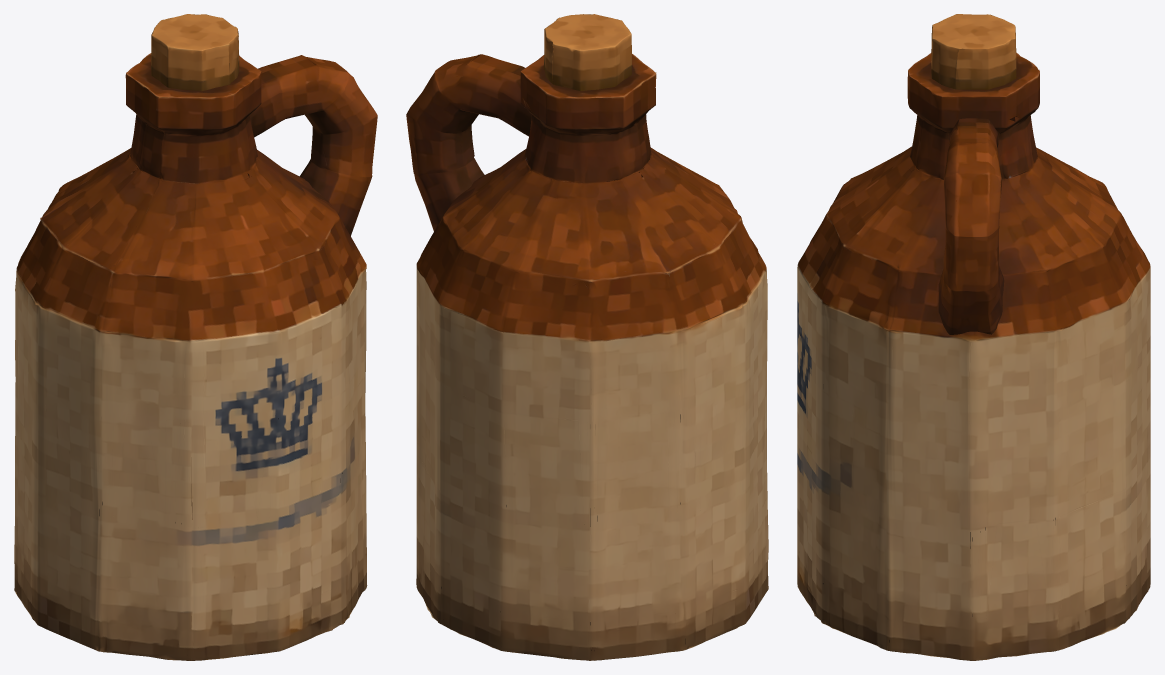
File: jug.glb
The picture shows the model from 3 angles, left to right: view 1: azimuth 30°, elevation 25°; view 2: azimuth 150°, elevation 25°; view 3: azimuth 270°, elevation 25°; orthographic projection.
Visible parts, largest first — view 1: geometry_0; view 2: geometry_0; view 3: geometry_0.
Part boxes in pixels (x1,y1,x2,y2): geometry_0: (14, 14, 377, 660); geometry_0: (406, 14, 768, 660); geometry_0: (797, 14, 1150, 660).
Bounding box in the file's own units: 0.5942 × 0.9517 × 0.5474.
Materials: 1 (1 with a texture image).
